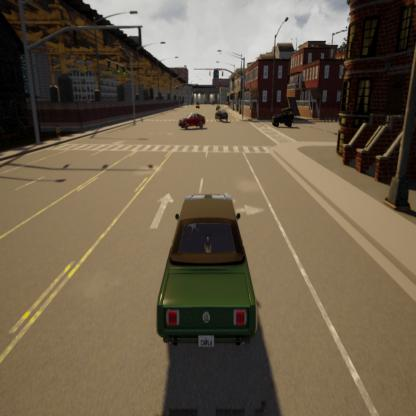Cars: (150, 165, 265, 366), (174, 108, 209, 137), (266, 102, 295, 136), (211, 103, 231, 130), (194, 95, 203, 114)
